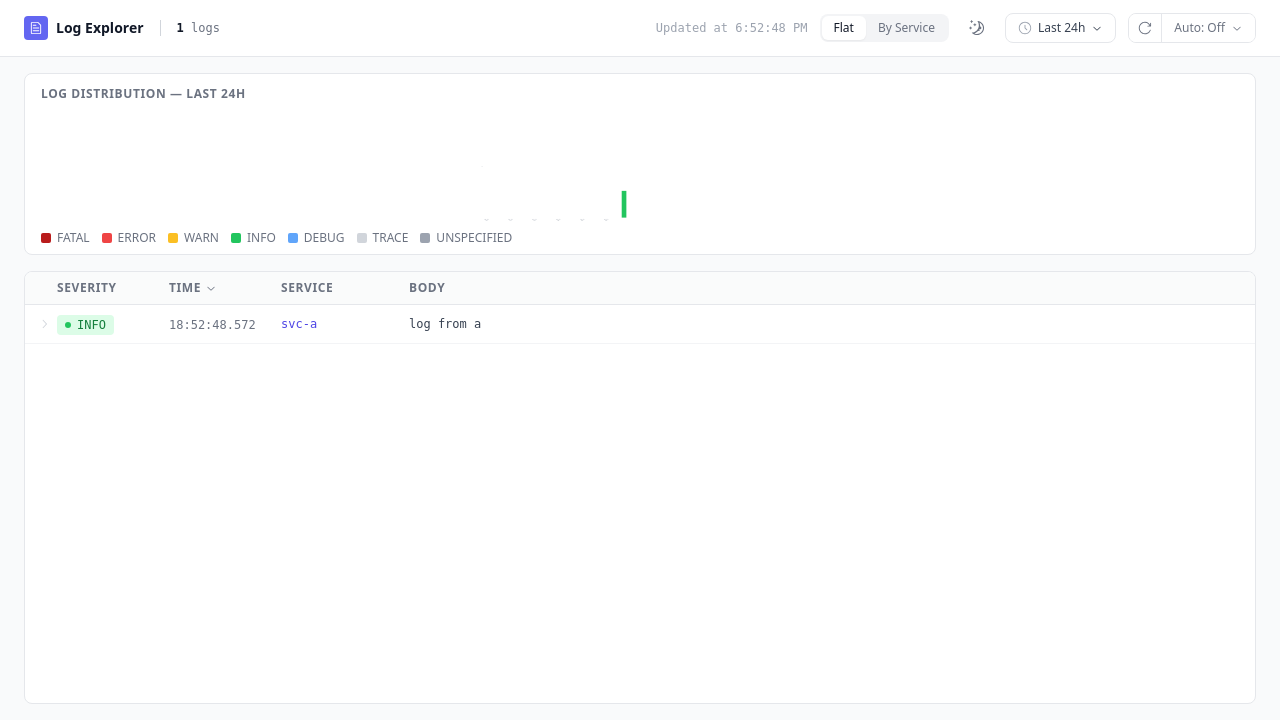
Test case: LogViewer › switches between flat and grouped views
Expected: the text "log from a" is shown, [409,317,481,331]
Click the radio button labelled "By Service" at (906, 28), box [866,16,947,40]
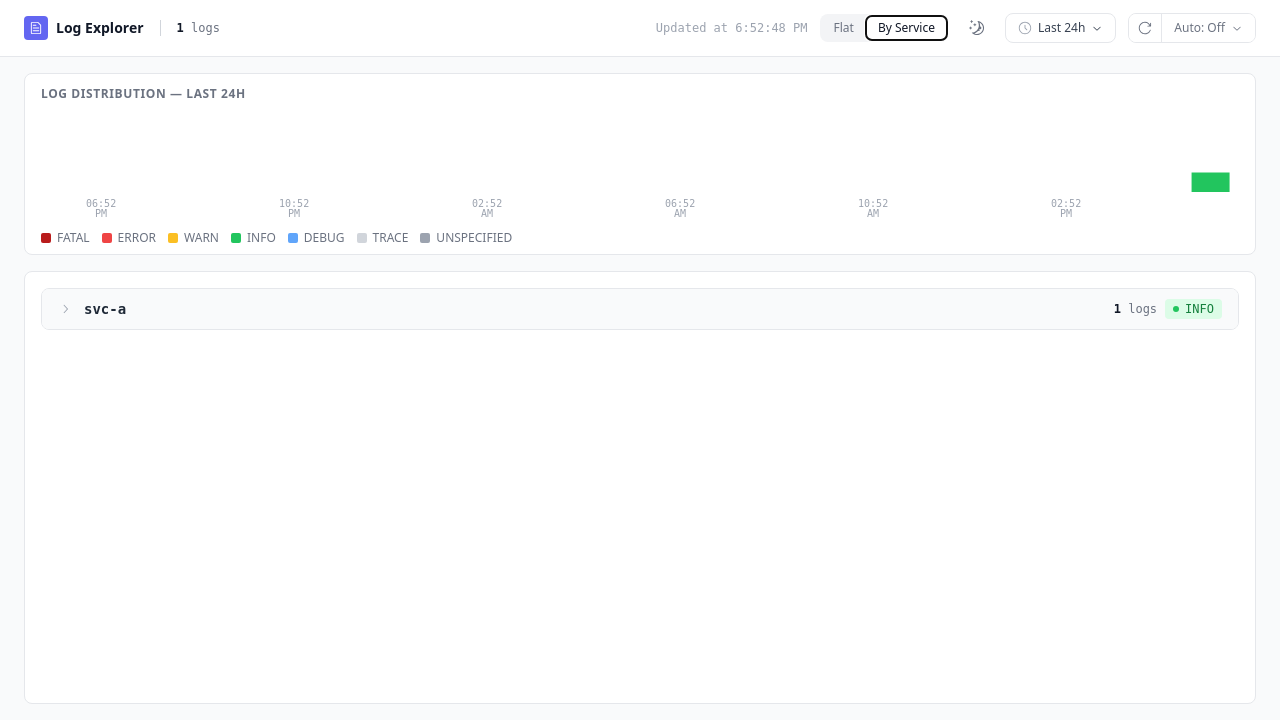
Expected: the text "svc-a" is shown, [84,301,126,317]
